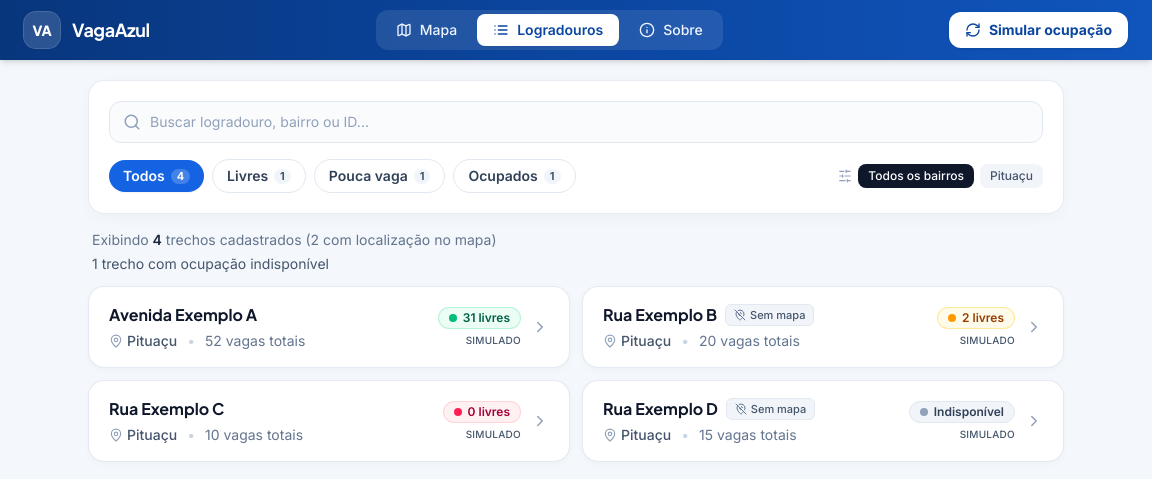
Test: Navegação e listagem › filtra pela busca textual e informa quando não há resultados
Earlier steps of the test are not shown.
Step 1. Type "Exemplo B" into the search field with test id "search-input" → (576, 122), box x1=109 y1=101 x2=1043 y2=143
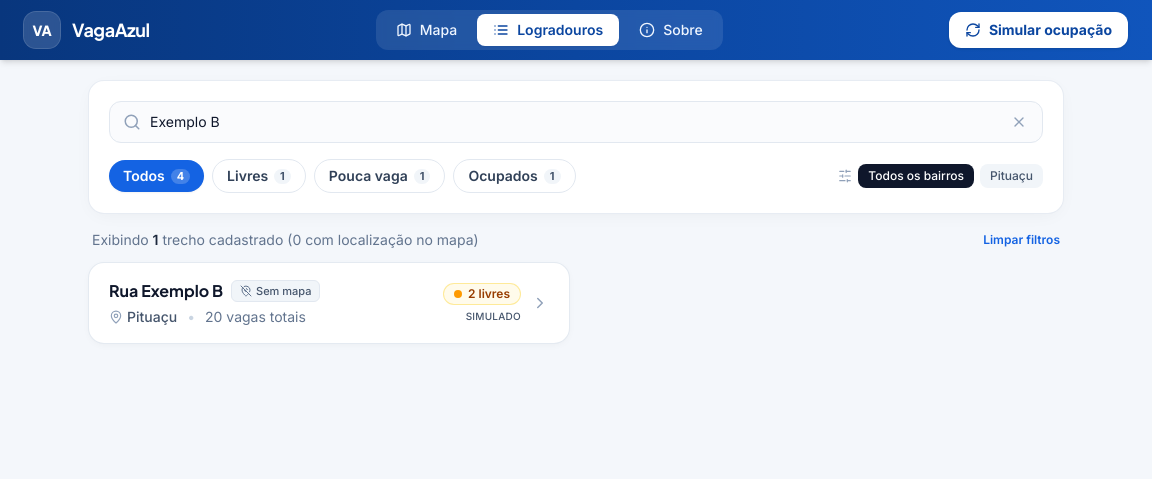
Expected: the element with test id "trecho-list" shows "Rua Exemplo B", x1=88 y1=262 x2=570 y2=344
Step 2. Replace the text in the search field with test id "search-input" with "Logradouro inexistente XYZ" → (576, 122), box x1=109 y1=101 x2=1043 y2=143
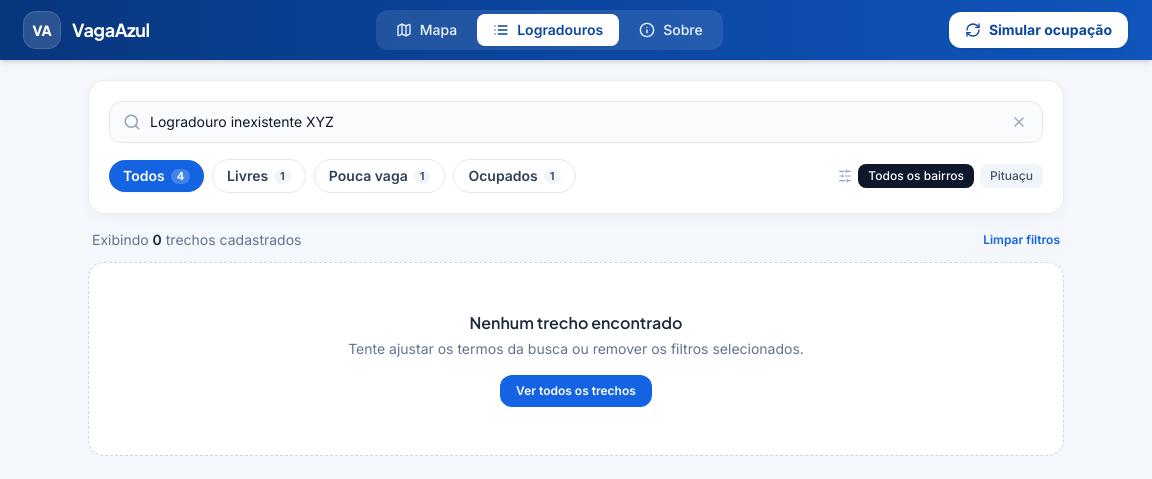
Expected: the element with test id "empty-state-filtro" is shown, x1=88 y1=262 x2=1064 y2=456
